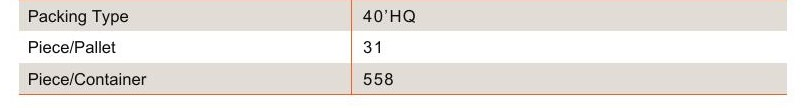table: (7, 1, 803, 104)
table column: (359, 1, 782, 101), (22, 1, 346, 100)
table row: (16, 66, 797, 95), (14, 34, 800, 60), (16, 3, 791, 27)
